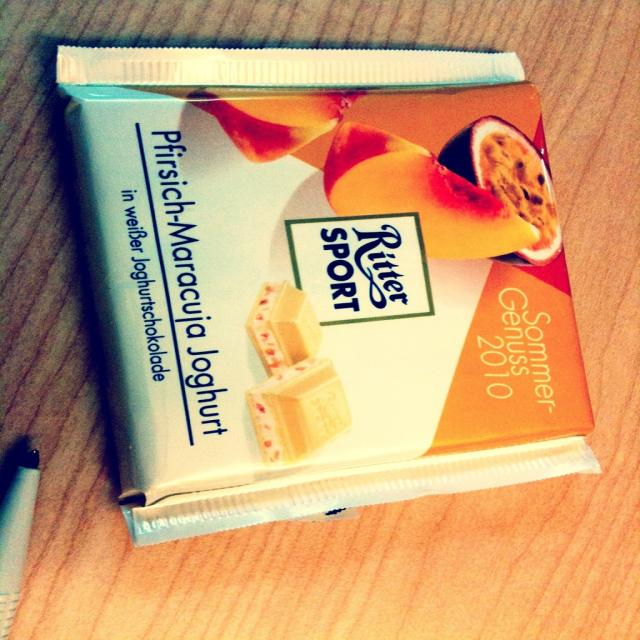rittersport: (286, 214, 436, 328)
